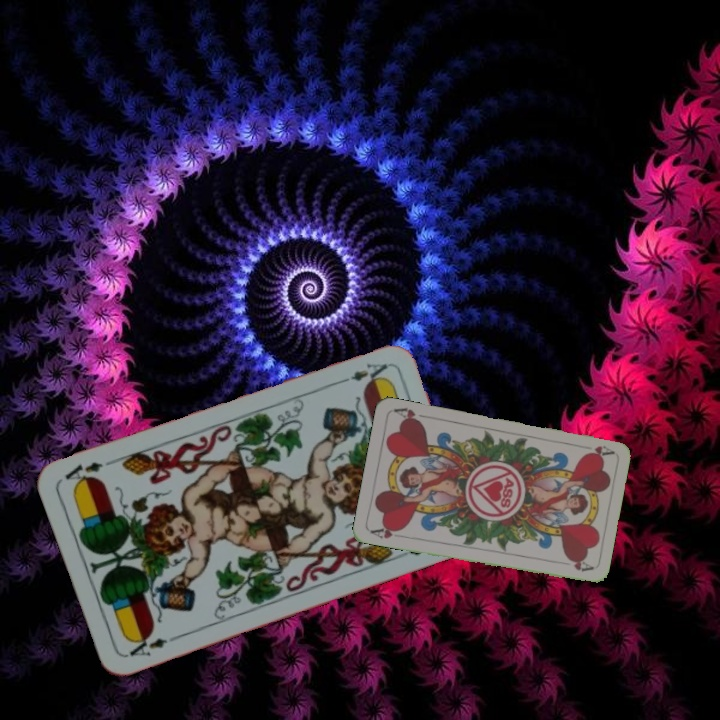EA: (333, 358, 391, 387), (125, 629, 181, 659)
HA: (367, 522, 407, 541), (581, 441, 615, 460)
